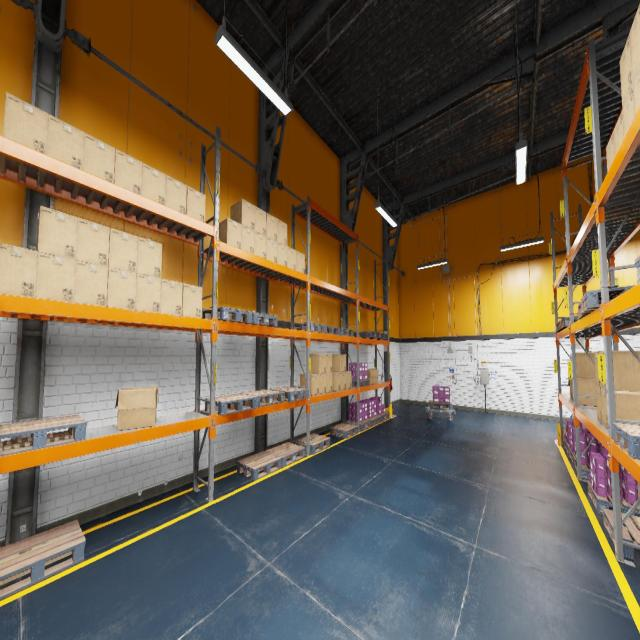box: (3, 92, 48, 154), (36, 206, 78, 260), (46, 114, 84, 169), (0, 242, 37, 297), (36, 252, 76, 302), (115, 386, 158, 431), (599, 350, 640, 391), (76, 218, 110, 266), (83, 132, 115, 183), (74, 260, 108, 306), (108, 228, 138, 272), (114, 149, 142, 195), (107, 267, 136, 310), (141, 162, 166, 205), (619, 32, 633, 108), (137, 236, 162, 278), (135, 273, 161, 313), (614, 390, 640, 425), (165, 175, 187, 214), (160, 279, 183, 315), (630, 2, 640, 83), (230, 198, 255, 230), (219, 217, 241, 249), (182, 283, 202, 318), (187, 186, 206, 222), (622, 85, 635, 137), (570, 353, 596, 378), (577, 377, 597, 406), (572, 378, 595, 400), (614, 110, 624, 156), (300, 374, 319, 396), (606, 130, 615, 172), (242, 224, 254, 253), (266, 212, 278, 240), (255, 206, 266, 236), (633, 68, 640, 115), (254, 231, 266, 258), (310, 354, 326, 373), (601, 388, 608, 429), (266, 236, 277, 262), (277, 219, 287, 246), (596, 386, 603, 424), (594, 351, 601, 387), (332, 354, 346, 372), (277, 242, 287, 266), (287, 246, 296, 270), (296, 251, 305, 273), (338, 371, 346, 390), (368, 369, 378, 384), (319, 374, 326, 394), (333, 372, 340, 391), (346, 371, 352, 389), (327, 354, 332, 373), (327, 373, 332, 392), (570, 379, 572, 400), (568, 379, 569, 385)
pallets: (0, 520, 86, 600), (0, 414, 87, 456), (602, 508, 640, 560), (587, 481, 640, 517), (581, 285, 636, 314), (237, 451, 282, 481), (204, 393, 256, 415), (612, 423, 640, 459), (265, 442, 305, 467), (203, 307, 252, 324), (239, 390, 284, 407), (296, 433, 330, 454), (578, 298, 613, 318), (270, 387, 308, 402), (243, 312, 277, 326), (330, 422, 358, 438), (574, 456, 590, 480), (294, 323, 326, 333), (347, 419, 372, 431), (560, 316, 578, 329), (429, 400, 452, 409), (321, 326, 340, 335), (634, 256, 640, 284), (334, 328, 354, 336), (356, 332, 380, 338), (368, 415, 381, 425), (376, 412, 390, 421), (352, 379, 370, 386), (568, 446, 574, 465), (374, 332, 388, 340), (564, 438, 569, 454), (556, 321, 563, 331), (578, 312, 580, 320)
